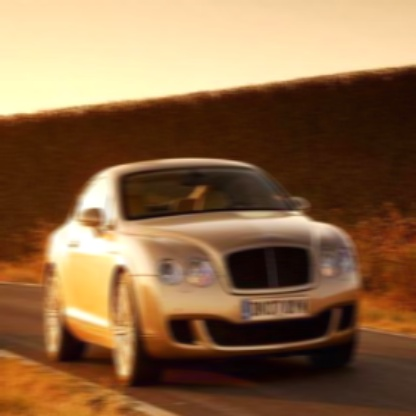Vehicle: (42, 155, 362, 386)
